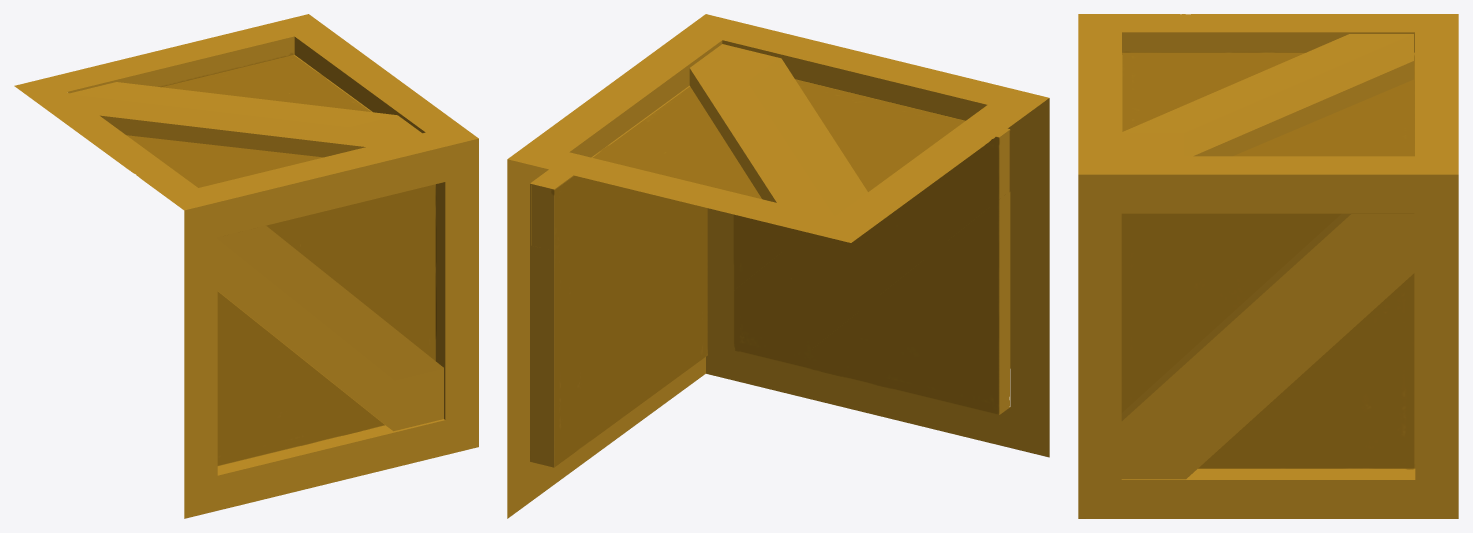
The model's file is CrateModel.fbx.
3 renders of one model, left to right at view 1: azimuth 30°, elevation 25°; view 2: azimuth 150°, elevation 25°; view 3: azimuth 270°, elevation 25°, orthographic. The views are drawn at different scales.
Parts seen in each view (by area): view 1: Cube, Cube.003, Cube.002; view 2: Cube, Cube.002; view 3: Cube, Cube.001, Cube.002.
Part boxes in pixels (x1=…): Cube: x1=14, y1=14, x2=478, y2=518; Cube.003: x1=217, y1=226, x2=443, y2=431; Cube.002: x1=69, y1=82, x2=421, y2=157; Cube: x1=507, y1=14, x2=1049, y2=518; Cube.002: x1=689, y1=44, x2=867, y2=216; Cube: x1=1078, y1=14, x2=1458, y2=518; Cube.001: x1=1121, y1=213, x2=1415, y2=479; Cube.002: x1=1122, y1=34, x2=1413, y2=156.
Size of the model in its own units: 200 by 200 by 200.
